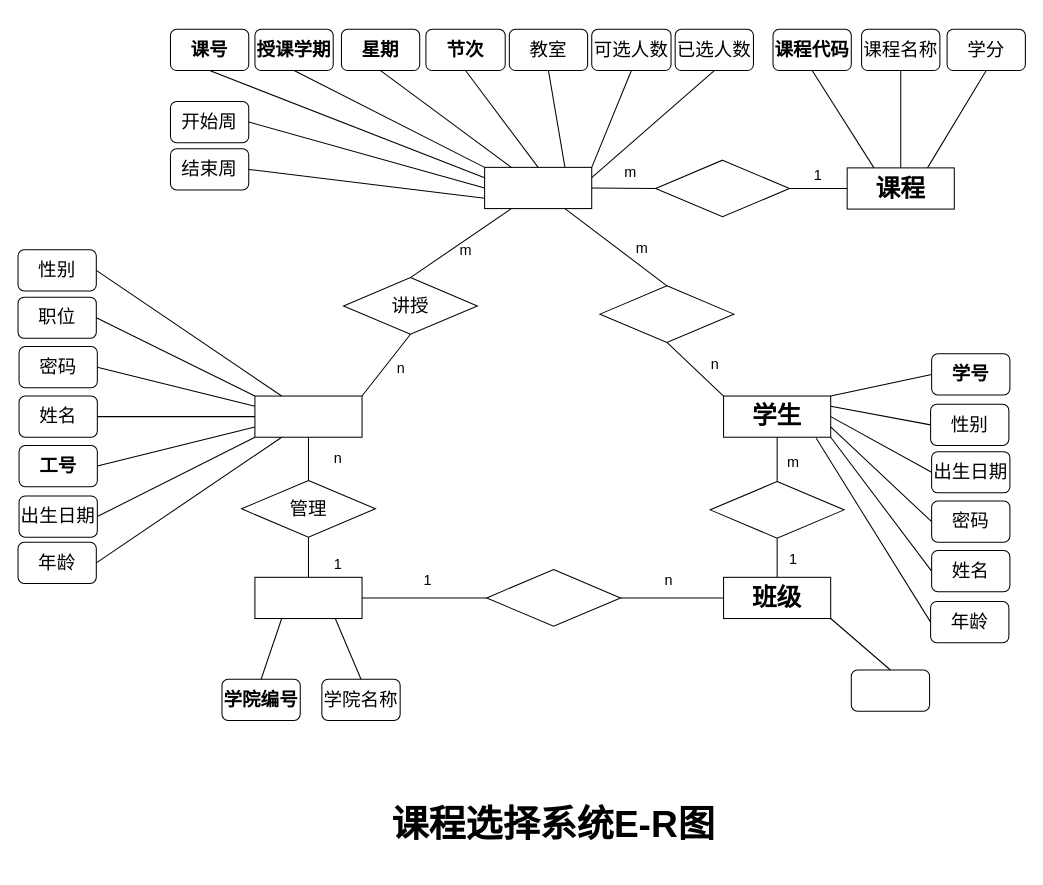
Some shapes in this 1043 by 885 pixel diagram are drawn without their labels. Each missing label, with the centre of its shape:
学院: point 308,597
对应: point 722,188
属于: point 776,509
拥有: point 553,597
教师: point 308,416
班级号: point 890,690
课程计划: point 538,187
选择: point 666,313
